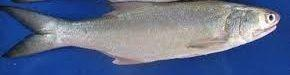Fourfinger Threadfish: (0, 0, 280, 67)
